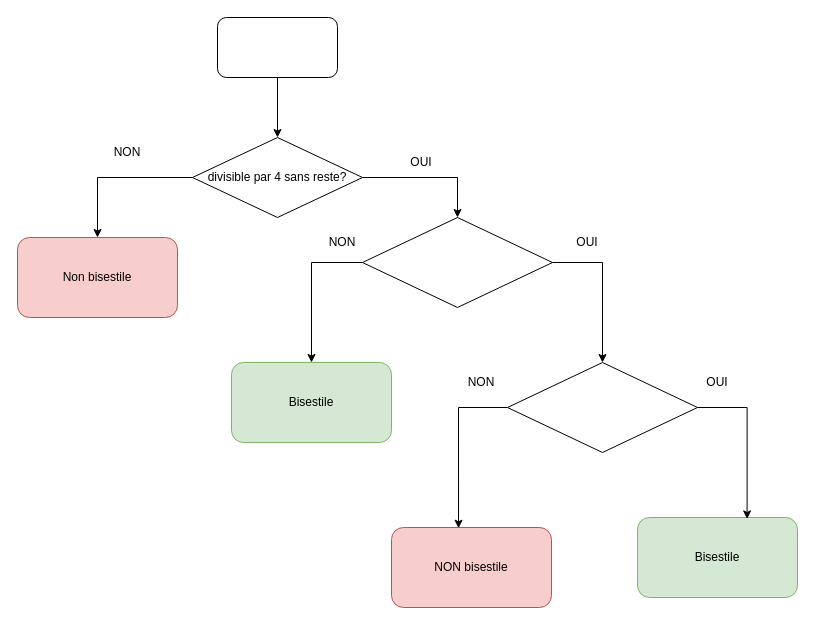
Some shapes in this 815 by 625 pixel diagram are drawn without their labels. Here are the shapes that lost their labels. From the top down, the centre of each, then its label:
the point at 277,47: Année bi
the point at 457,262: Divisible par 100 sans reste ?
the point at 602,407: Divisible par 400 sans reste ?
